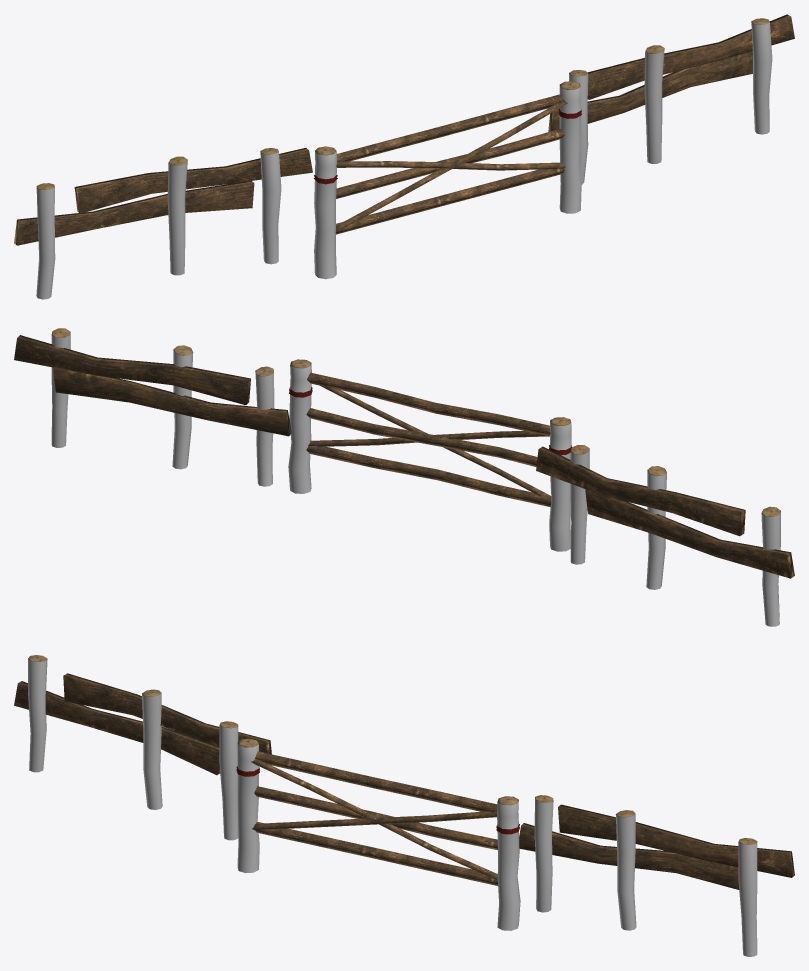
File: h25etc04.obj
3 views of the same model, one above another, from view 1: azimuth 30°, elevation 25°; view 2: azimuth 150°, elevation 25°; view 3: azimuth 330°, elevation 25° (orthographic).
Visible parts, largest first — view 1: saku_side_saku_sideShape, saku_center_saku_centerShape; view 2: saku_side_saku_sideShape, saku_center_saku_centerShape; view 3: saku_side_saku_sideShape, saku_center_saku_centerShape.
Part boxes in pixels (bbox=[...]): saku_side_saku_sideShape: bbox=[14, 14, 794, 299]; saku_center_saku_centerShape: bbox=[314, 81, 581, 279]; saku_side_saku_sideShape: bbox=[14, 328, 794, 626]; saku_center_saku_centerShape: bbox=[288, 359, 571, 551]; saku_side_saku_sideShape: bbox=[14, 655, 794, 956]; saku_center_saku_centerShape: bbox=[236, 738, 520, 930].
Size of the model in its own units: 16.65 by 2.59 by 1.82.
